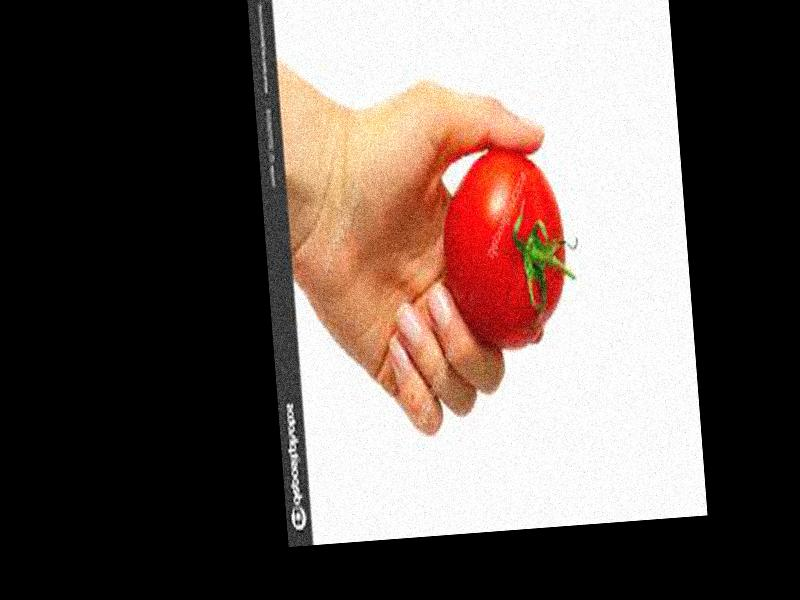Tomato: (436, 146, 573, 349)
